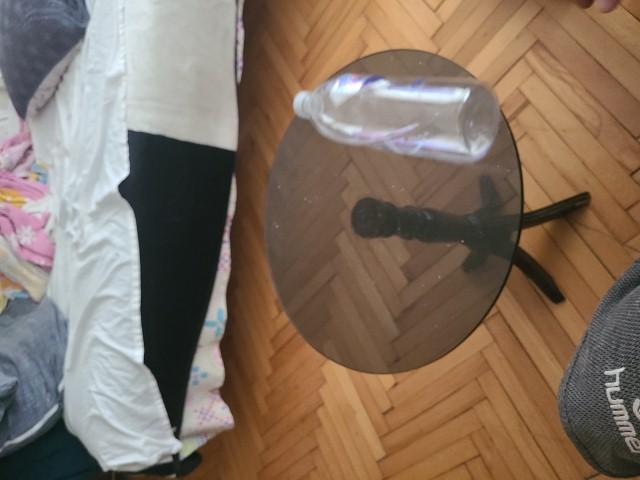plastic_bottle: (422, 220, 543, 375)
